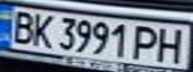1: (109, 20, 133, 58)
3: (54, 15, 78, 52)
9: (90, 19, 112, 56), (72, 17, 93, 54)
B: (6, 9, 39, 45)
H: (151, 25, 190, 63)
K: (27, 11, 57, 48)
P: (130, 22, 163, 61)
